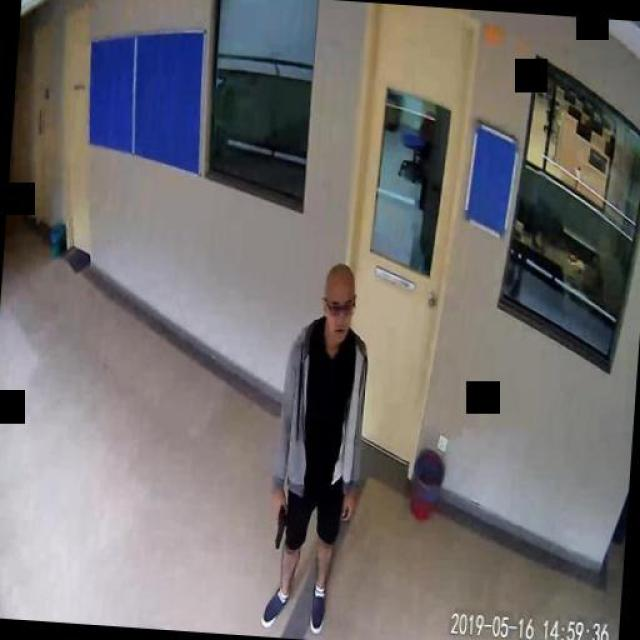gun: (269, 497, 286, 548)
